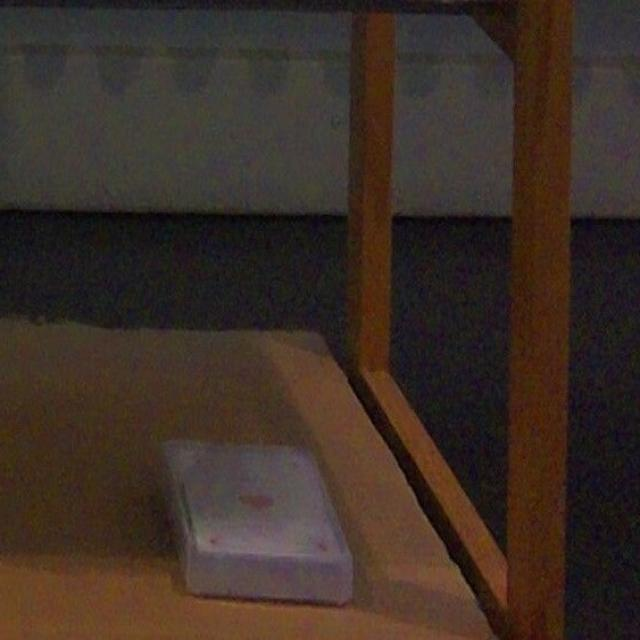Jasskarte: (164, 443, 351, 603)
